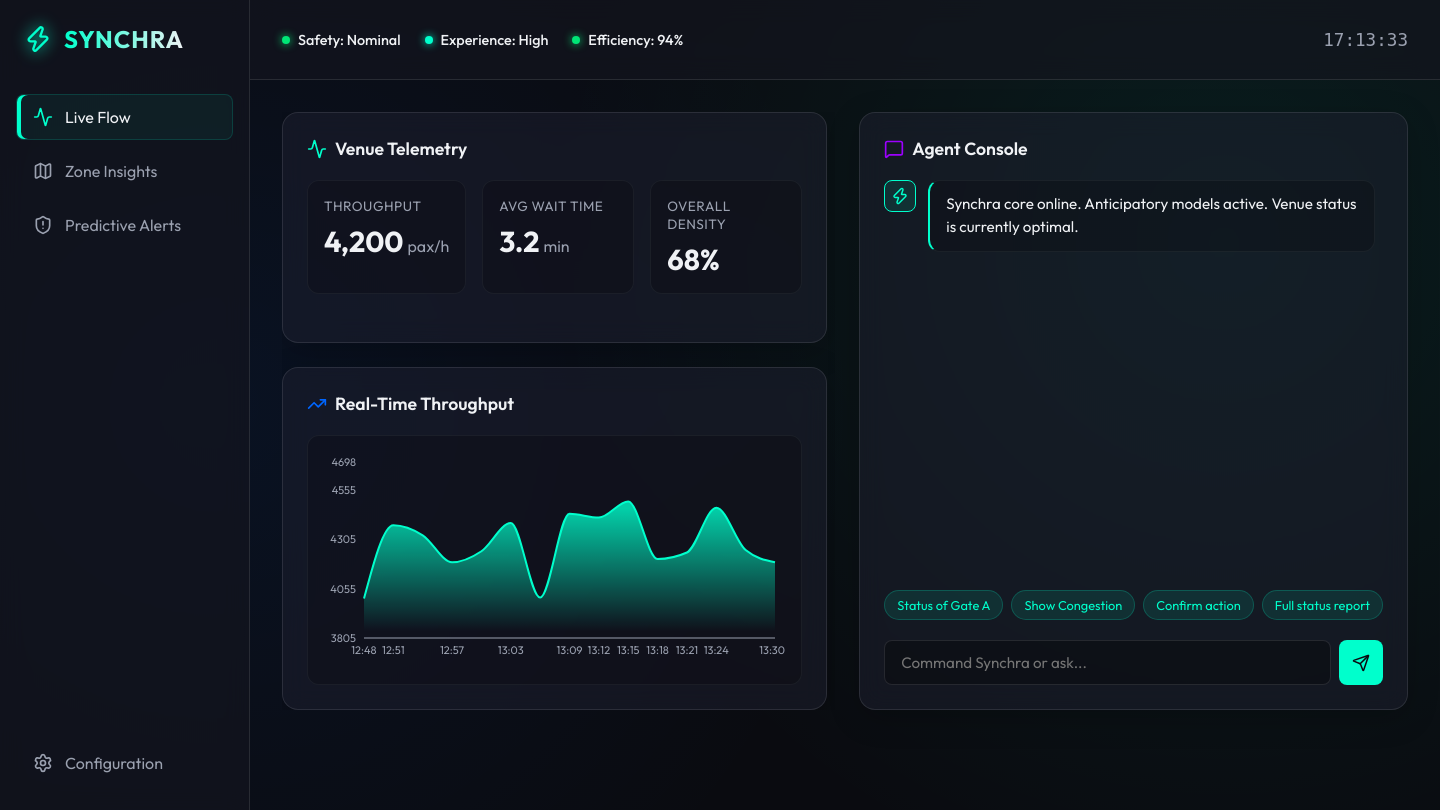
Test: Synchra App – Agent Console › sends a user message on form submit
The width and height of the screenshot is (1440, 810).
In the field named "Type a command or question": (1108, 662) [884, 640, 1331, 685], type "What is the current status?"
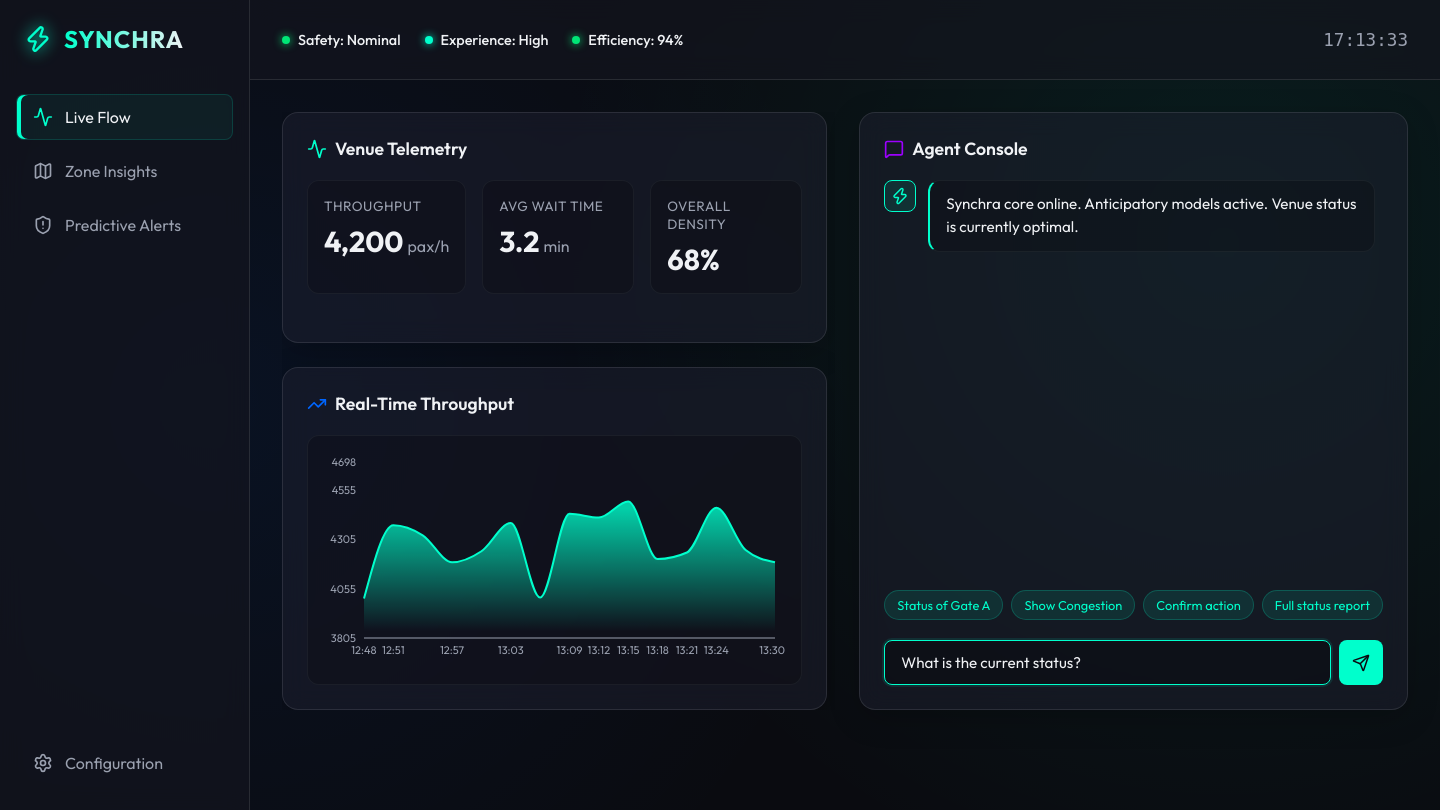
Press Enter
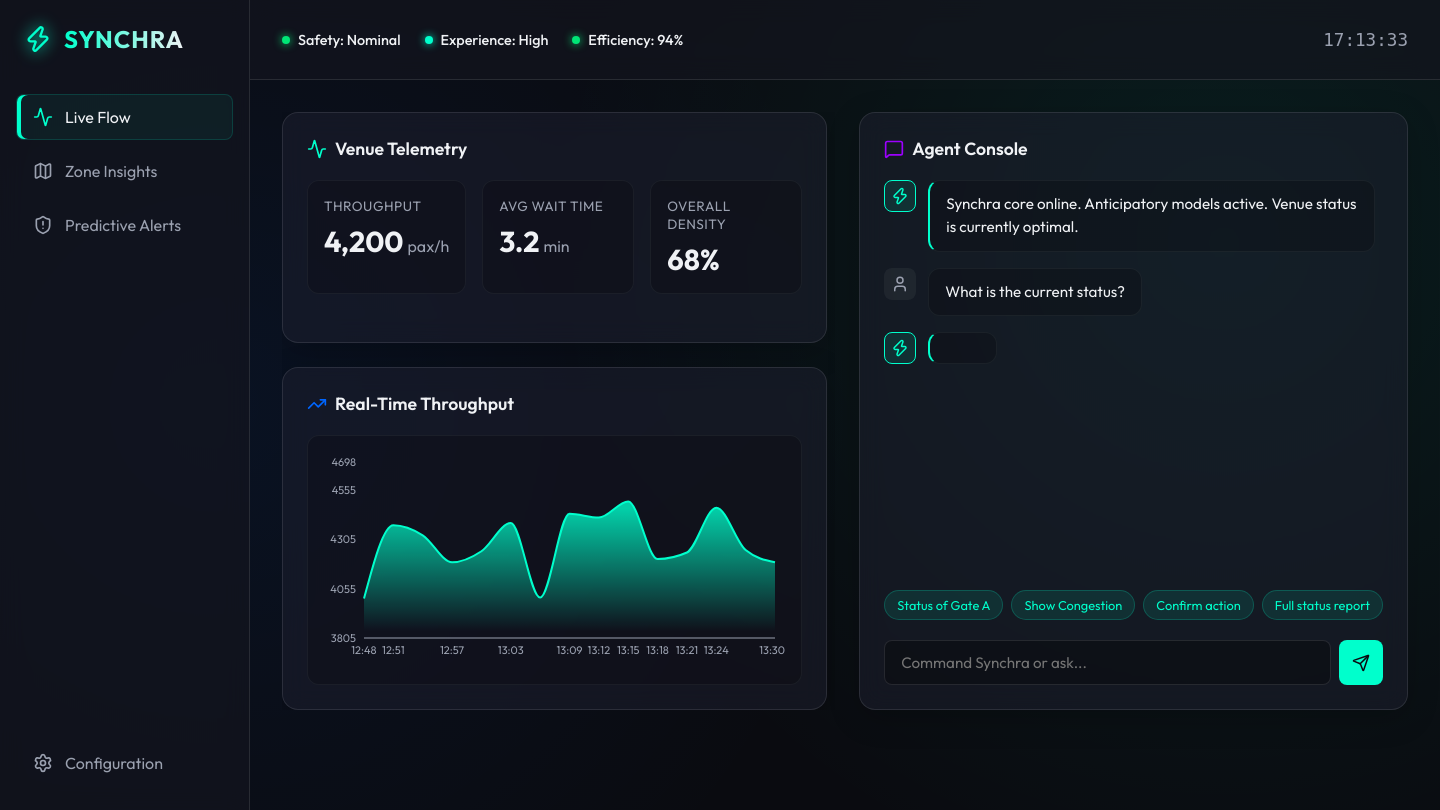
Expected: the text "What is the current status?" is shown, [928, 268, 1142, 316]
